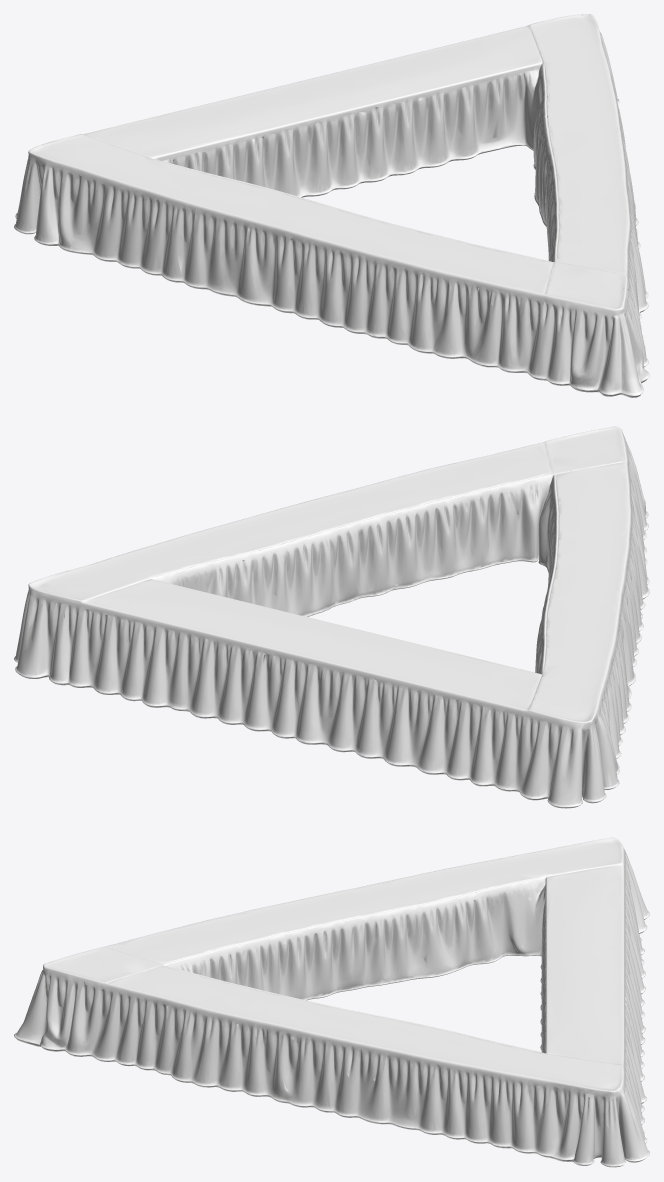
File: table.glb
The picture shows the model from 3 angles, top to bottom: view 1: azimuth 30°, elevation 25°; view 2: azimuth 150°, elevation 25°; view 3: azimuth 270°, elevation 25°; orthographic projection. The views are drawn at different scales.
Visible parts, largest first — view 1: node_0; view 2: node_0; view 3: node_0.
Part boxes in pixels (x1,y1,x2,y2): node_0: (14,14,649,397); node_0: (14,426,649,808); node_0: (14,837,649,1167).
Size of the model in its own units: 8.89 by 1.16 by 9.
1 material, 1 textured.
